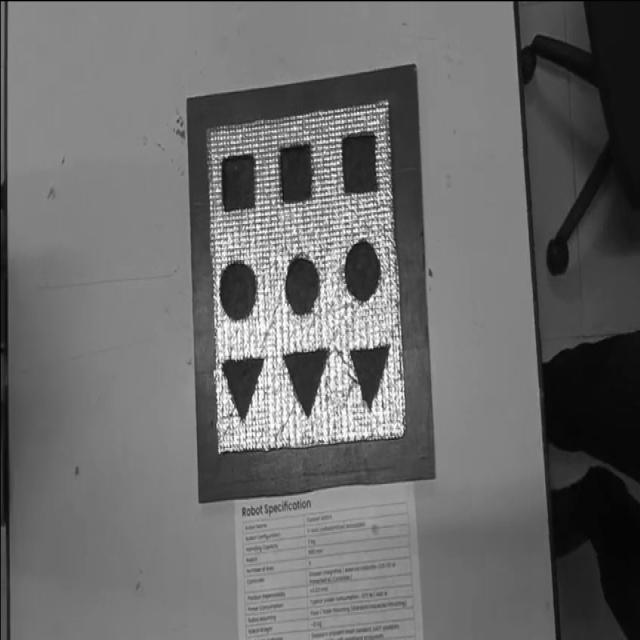mtcircle: (344, 239, 381, 303), (219, 260, 257, 320), (285, 255, 321, 315)
mtcube: (341, 132, 378, 196), (279, 141, 313, 204), (222, 152, 256, 212)
mttriangle: (283, 347, 329, 420), (222, 355, 265, 421), (349, 343, 390, 412)
wb: (206, 100, 405, 457)
